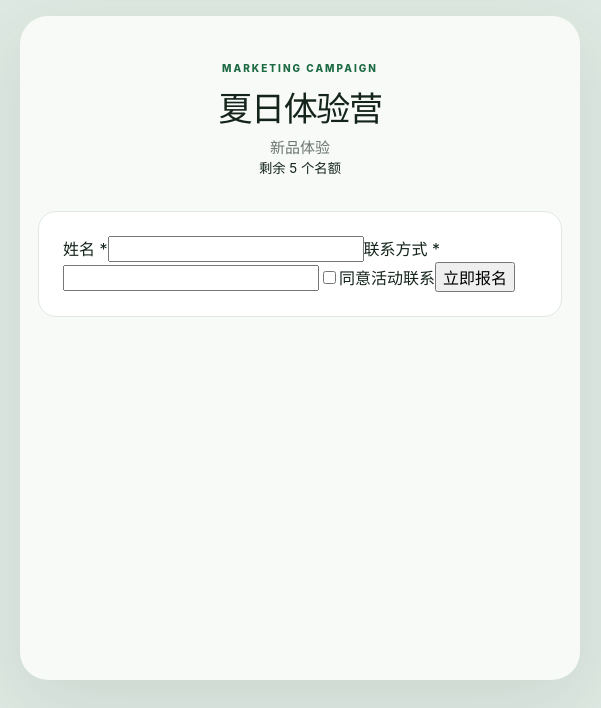
Test case: H5 App › renders and submits a dynamic marketing campaign
Type "王客户" into the field labelled "姓名 *" at x=236, y=249, box left=108, top=236, right=364, bottom=262
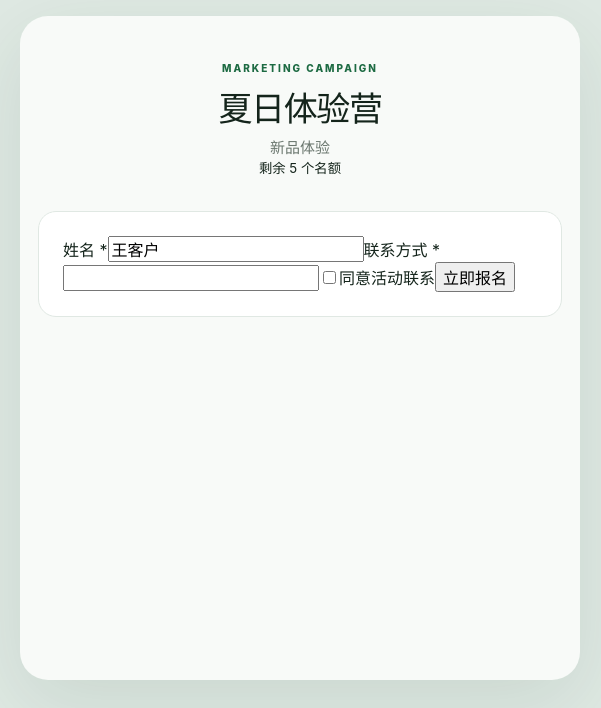
Type "13800000000" into the field labelled "联系方式 *" at x=191, y=278, box left=63, top=265, right=319, bottom=291
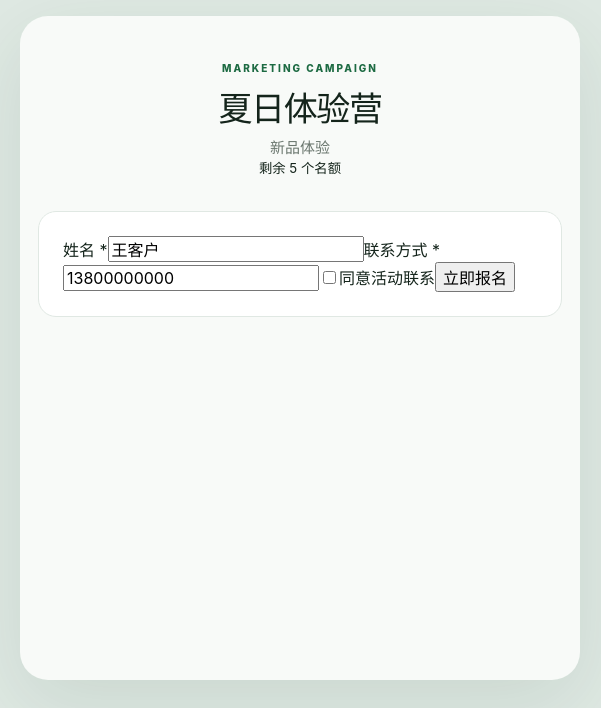
Click the checkbox labelled "同意活动联系" at x=330, y=278, box left=323, top=271, right=336, bottom=284
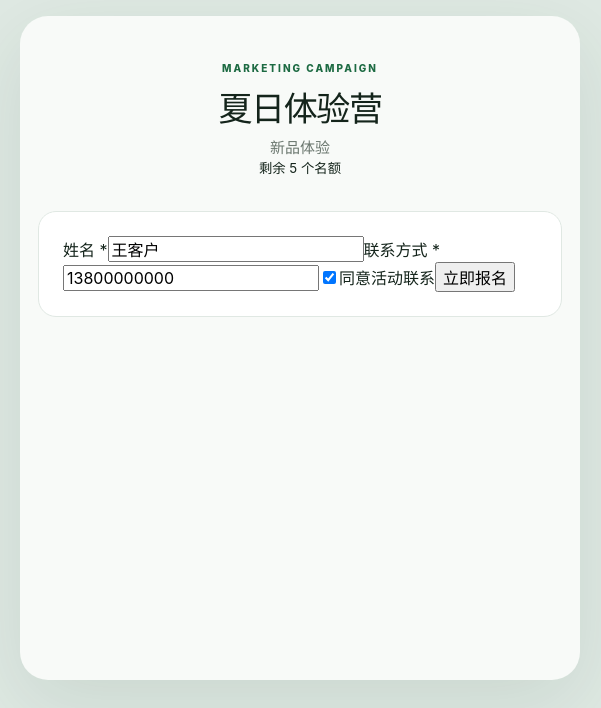
Submit the form, box left=38, top=211, right=562, bottom=317
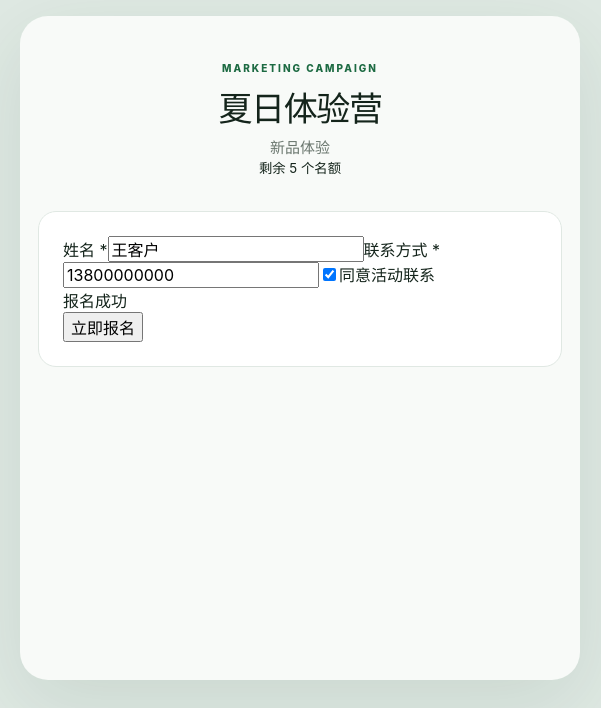
Expected: the text "报名成功" is shown, left=63, top=291, right=127, bottom=311
